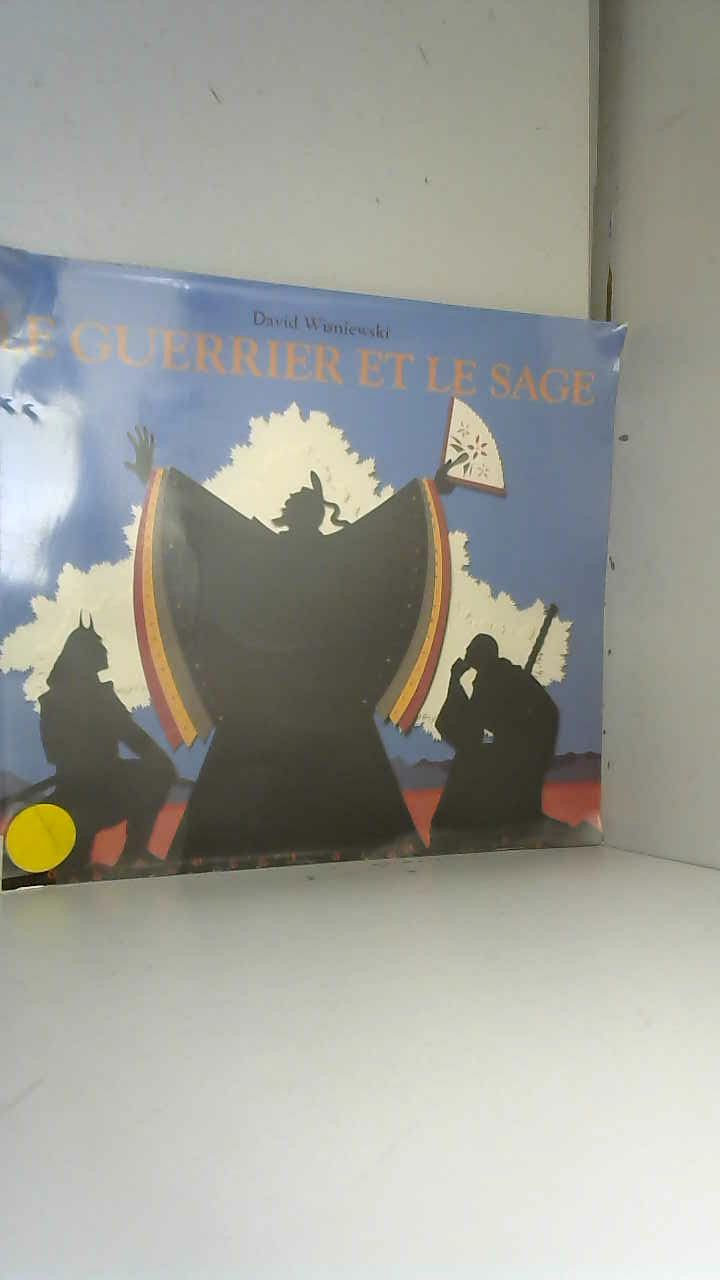book: (0, 223, 664, 920)
